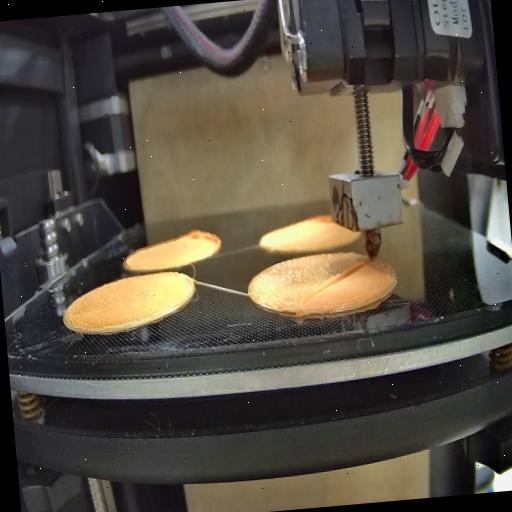over_extrusion: (301, 260, 372, 302), (183, 221, 224, 258), (312, 210, 334, 227)
